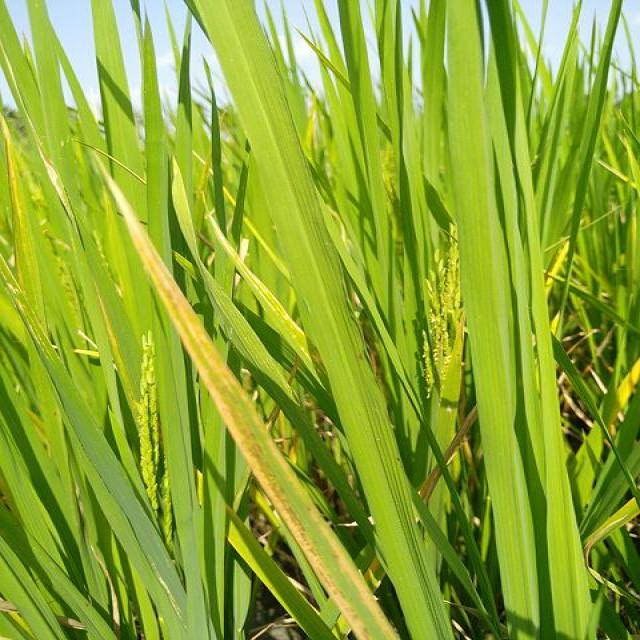Leaf Blight: (583, 498, 639, 608), (443, 406, 477, 464), (416, 465, 441, 505), (364, 558, 385, 594)
Leaf Streak: (96, 156, 397, 639), (211, 212, 333, 399), (0, 255, 57, 361), (0, 109, 39, 258)
